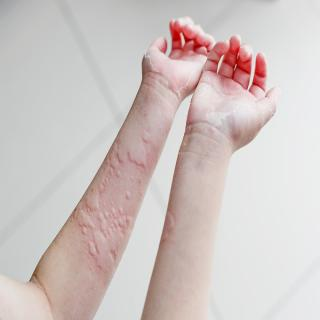urticaria: (77, 205, 123, 263), (115, 141, 151, 174), (90, 184, 111, 202), (121, 184, 138, 201), (169, 212, 183, 232)
